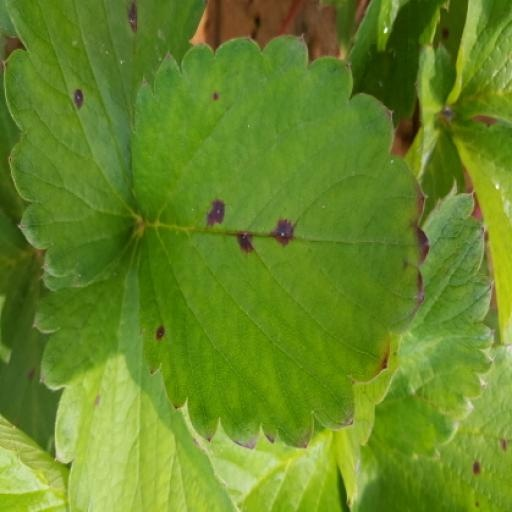Leaf Spot: (129, 61, 431, 479), (2, 218, 209, 511), (32, 0, 242, 279), (369, 0, 511, 168), (0, 56, 63, 259), (432, 453, 467, 511)
